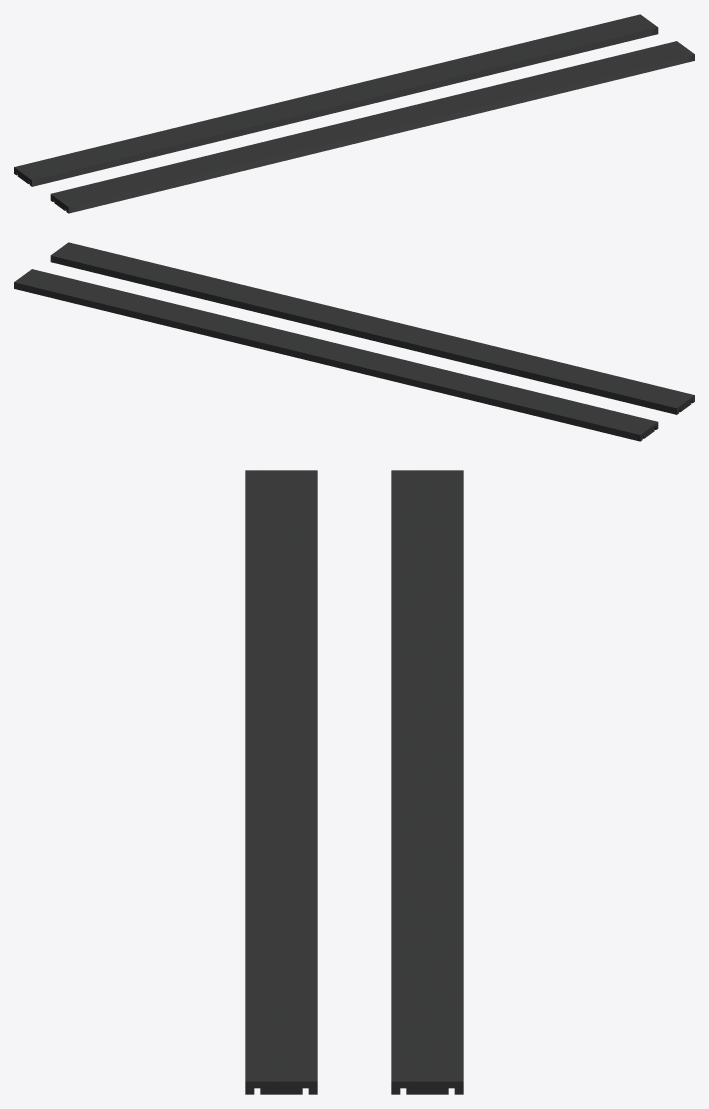
The model's file is ColBumper.obj.
3 renders of one model, top to bottom at view 1: azimuth 30°, elevation 25°; view 2: azimuth 150°, elevation 25°; view 3: azimuth 270°, elevation 25°, orthographic. The views are drawn at different scales.
Parts seen in each view (by area): view 1: bump_Cube; view 2: bump_Cube; view 3: bump_Cube.
Boxes of the visible parts, box(x1,y1,x2,y2) form: bump_Cube: box(14, 14, 694, 213); bump_Cube: box(14, 242, 694, 441); bump_Cube: box(245, 470, 463, 1094).
Bounding box in the file's own units: 1 × 0.01 × 0.1509.
1 material, 1 textured.
